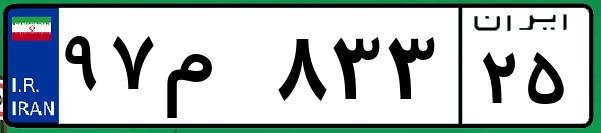2: (475, 38, 525, 113)
3: (385, 28, 445, 110), (330, 28, 385, 110)
5: (525, 38, 570, 115)
7: (110, 28, 158, 98)
8: (270, 28, 330, 110)
9: (57, 26, 110, 100)
م: (158, 20, 270, 120)
